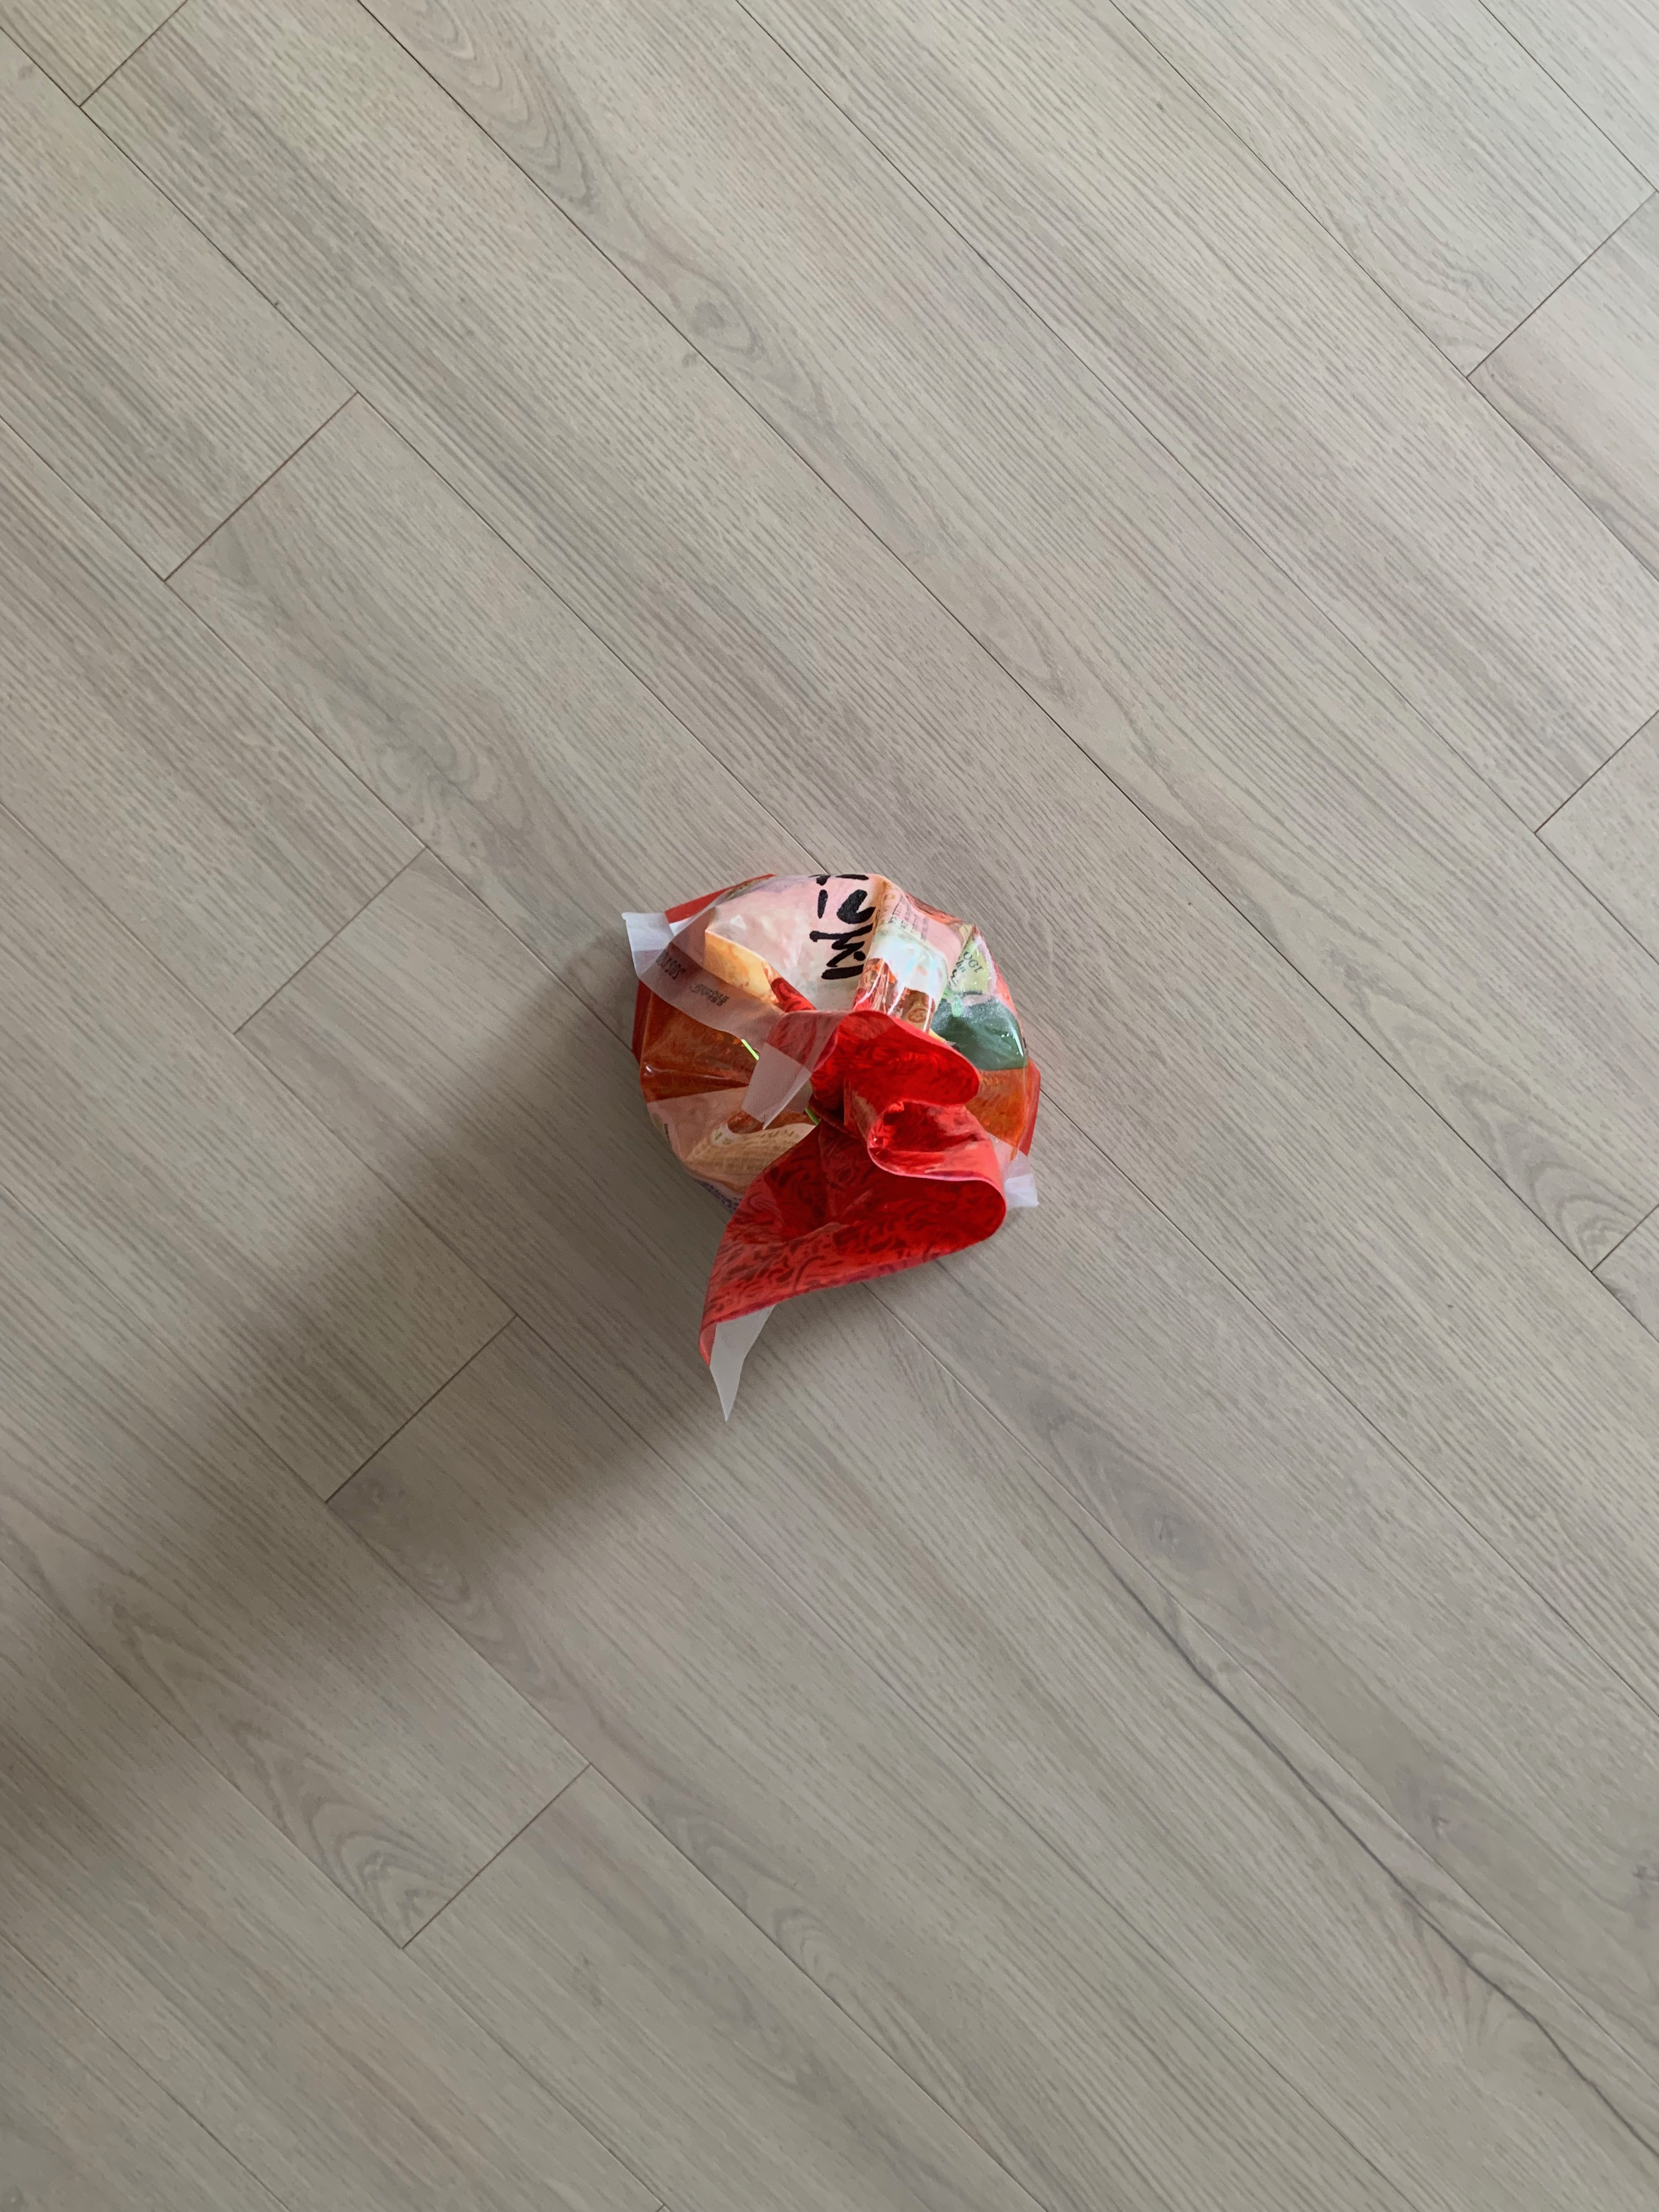kimchi: (629, 871, 1040, 1322)
